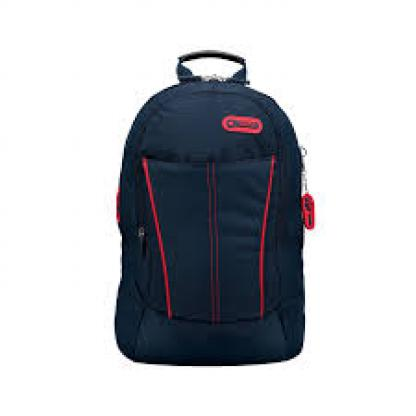morral: (109, 48, 329, 381)
